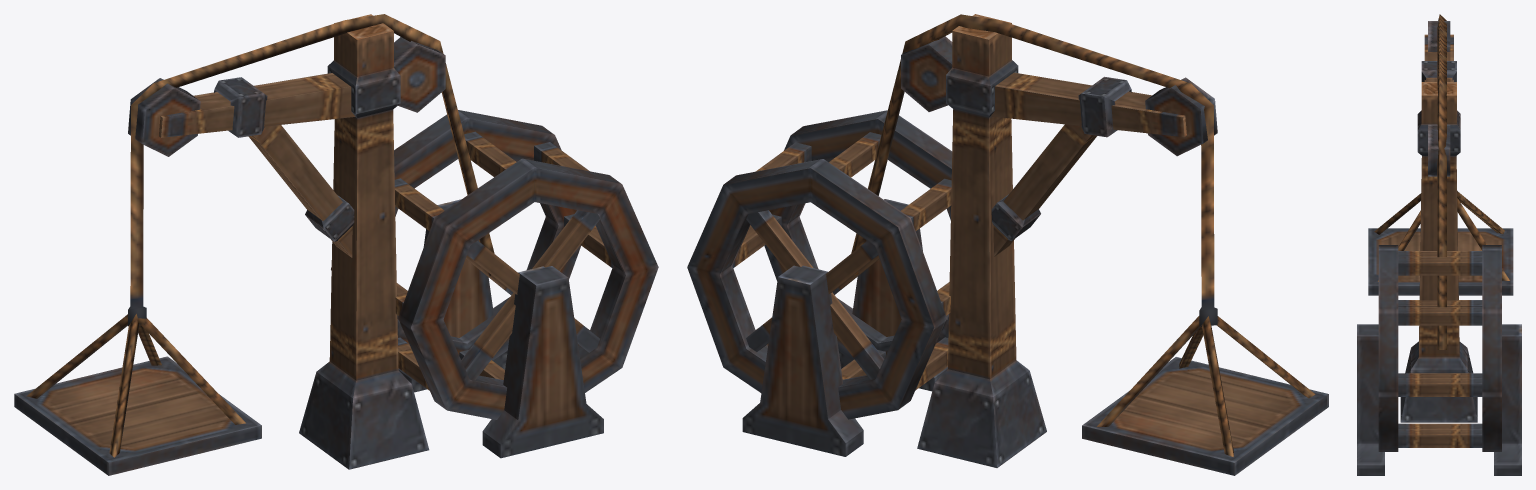
File: crane.FBX
3 views of the same model, side by side, from view 1: azimuth 30°, elevation 25°; view 2: azimuth 150°, elevation 25°; view 3: azimuth 270°, elevation 25° (orthographic). The views are drawn at different scales.
Parts seen in each view (by area): view 1: Object075; view 2: Object075; view 3: Object075.
Boxes of the visible parts, left/top/right/bottom form: Object075: left=14, top=14, right=658, bottom=475; Object075: left=687, top=14, right=1328, bottom=475; Object075: left=1357, top=14, right=1521, bottom=475.
Bounding box in the file's own units: 162 × 119 × 54.1.
